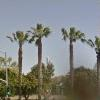Tree: (12, 17, 85, 57)
